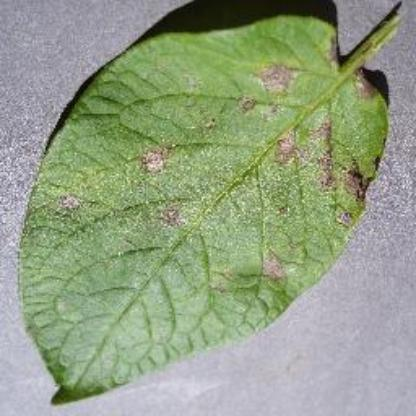Early-Blight: (19, 16, 391, 406)
